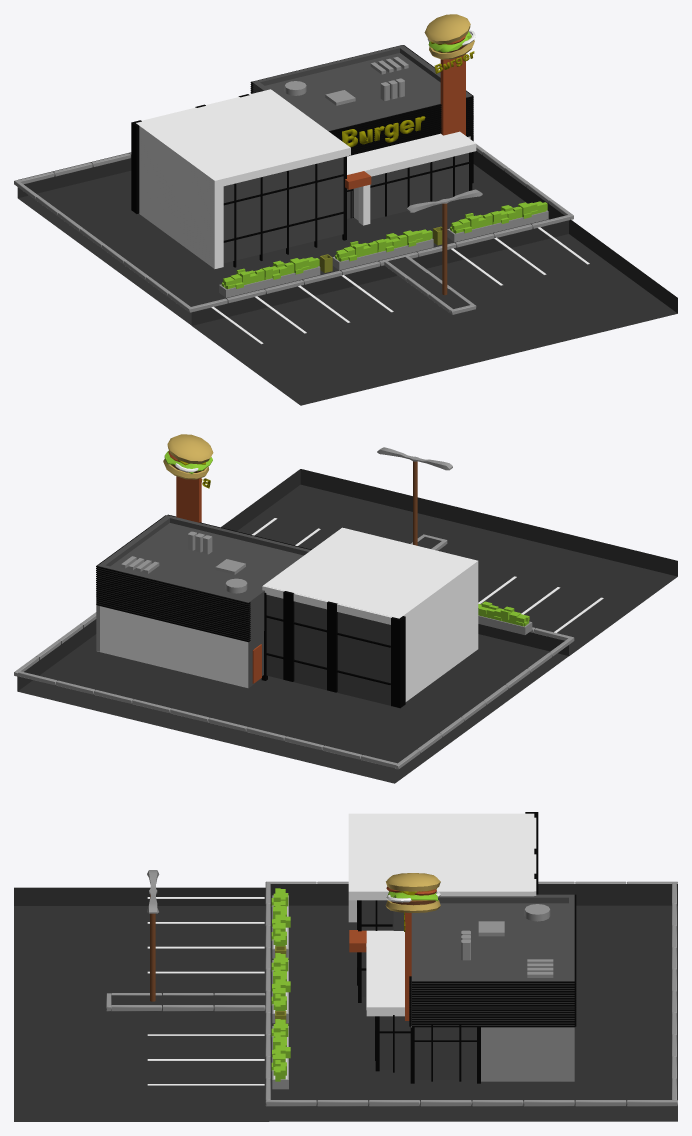
The picture shows the model from 3 angles, top to bottom: view 1: azimuth 30°, elevation 25°; view 2: azimuth 150°, elevation 25°; view 3: azimuth 270°, elevation 25°; orthographic projection. The views are drawn at different scales.
Parts seen in each view (by area): view 1: Плоскость_1, Плоскость, Куб_6_4, Плоскость_1_2, Куб_1_3, Плоскость_2_2, roof, Куб_3_7, Куб_10_4_5, Куб_1, Куб, Куб_2_2 (+7 smaller); view 2: Плоскость, Плоскость_1, Куб_6_4, Плоскость_7, Куб_1_3, box3, Куб_2_2, Куб_2_7, Куб_3_7, Куб_4_6, Диск_1, Куб_3_6 (+2 smaller); view 3: Плоскость_1, Плоскость, Куб_6_4, Куб_1_3, Куб_2_2, Куб_7_4, roof, Плоскость_2_3, Плоскость_4, Плоскость_2, Плоскость_5, Куб_7_7 (+14 smaller).
Part boxes in pixels (x1=…): Плоскость_1: x1=191, y1=219, x2=677, y2=405; Плоскость: x1=17, y1=151, x2=569, y2=325; Куб_6_4: x1=136, y1=90, x2=349, y2=268; Плоскость_1_2: x1=223, y1=157, x2=343, y2=263; Куб_1_3: x1=260, y1=48, x2=440, y2=129; Плоскость_2_2: x1=370, y1=153, x2=468, y2=219; roof: x1=347, y1=131, x2=476, y2=176; Куб_3_7: x1=440, y1=54, x2=465, y2=135; Куб_10_4_5: x1=221, y1=257, x2=319, y2=289; Куб_1: x1=450, y1=201, x2=547, y2=233; Куб: x1=335, y1=229, x2=432, y2=261; Куб_2_2: x1=252, y1=45, x2=471, y2=131; Плоскость: x1=17, y1=619, x2=568, y2=783; Плоскость_1: x1=221, y1=469, x2=677, y2=655; Куб_6_4: x1=265, y1=528, x2=478, y2=701; Плоскость_7: x1=266, y1=595, x2=390, y2=705; Куб_1_3: x1=106, y1=518, x2=308, y2=599; box3: x1=97, y1=606, x2=254, y2=688; Куб_2_2: x1=97, y1=515, x2=310, y2=640; Куб_2_7: x1=391, y1=616, x2=405, y2=708; Куб_3_7: x1=176, y1=476, x2=201, y2=522; Куб_4_6: x1=283, y1=591, x2=294, y2=681; Диск_1: x1=167, y1=434, x2=213, y2=463; Куб_3_6: x1=327, y1=601, x2=337, y2=692; Плоскость_1: x1=14, y1=887, x2=269, y2=1121; Плоскость: x1=269, y1=884, x2=677, y2=1121; Куб_6_4: x1=348, y1=813, x2=534, y2=890; Куб_1_3: x1=417, y1=897, x2=568, y2=977; Куб_2_2: x1=411, y1=894, x2=574, y2=1027; Куб_7_4: x1=481, y1=1027, x2=574, y2=1081; roof: x1=366, y1=930, x2=404, y2=1016; Плоскость_2_3: x1=414, y1=1027, x2=476, y2=1079; Плоскость_4: x1=379, y1=1016, x2=410, y2=1070; Плоскость_2: x1=111, y1=994, x2=265, y2=1005; Плоскость_5: x1=361, y1=900, x2=393, y2=996; Куб_7_7: x1=348, y1=890, x2=534, y2=900.
Bounding box in the file's own units: 2040 × 928 × 2599.
